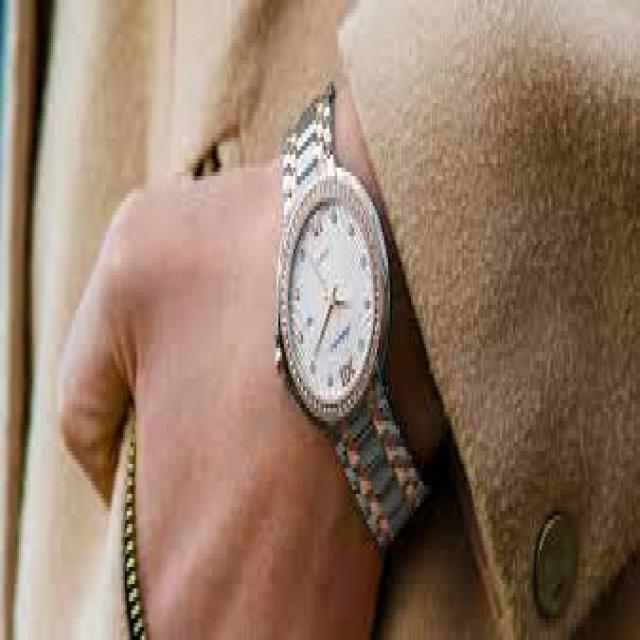Watch: (272, 91, 437, 554)
